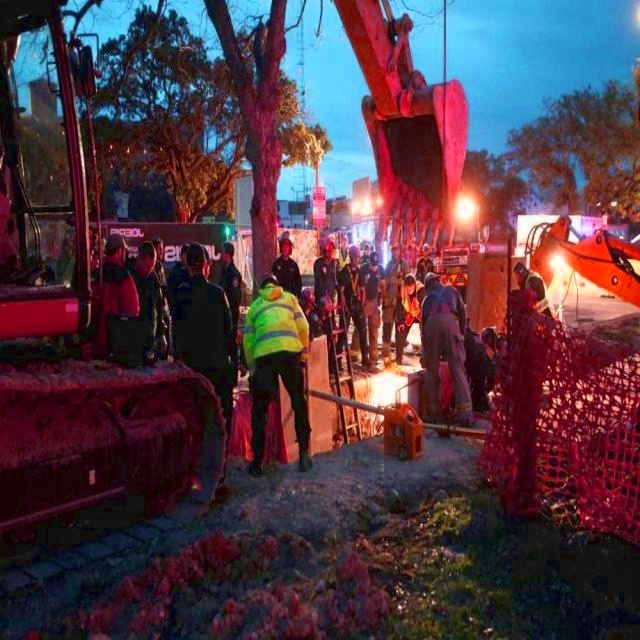Con_Chaleco: (244, 287, 301, 367)
